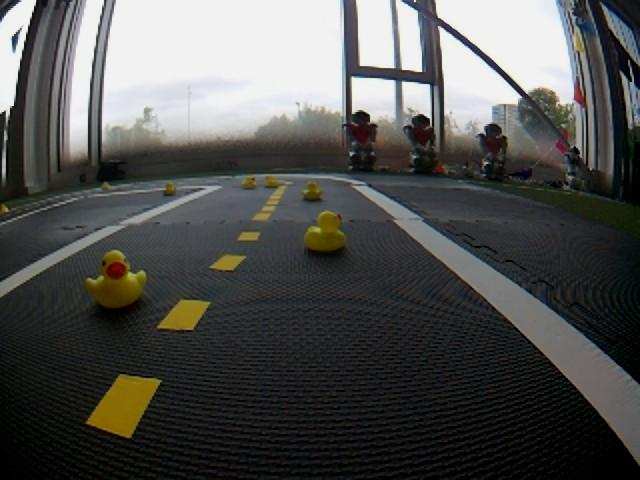Duckies: (84, 250, 145, 307), (302, 210, 345, 250), (302, 183, 322, 200), (264, 176, 280, 186), (163, 183, 177, 194), (242, 177, 257, 187), (0, 203, 8, 214), (102, 182, 110, 188)
